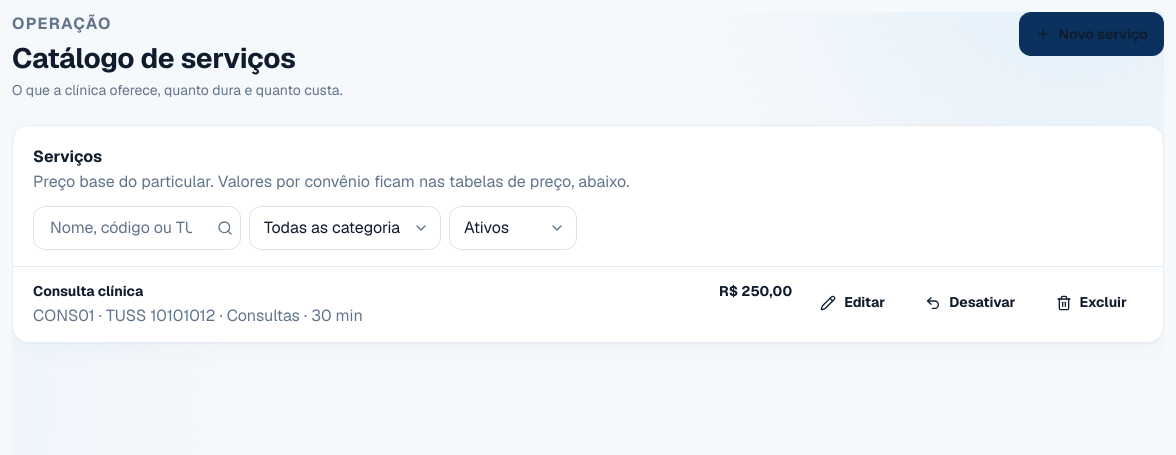
it: busca e filtros › mostrar todos traz os desativados
Select "Todos" in the 2nd dropdown named "Situação". click: (513, 228)
box: [449,206,577,250]
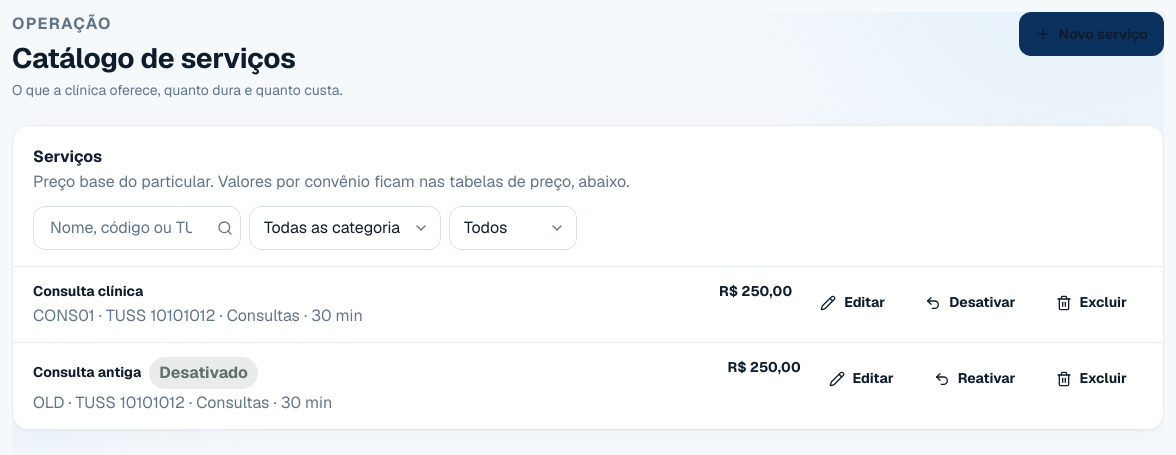
Now the text "Consulta antiga" is shown, box [33,362,141,384]
Now the text "Desativado" is shown, box [149,357,258,389]
